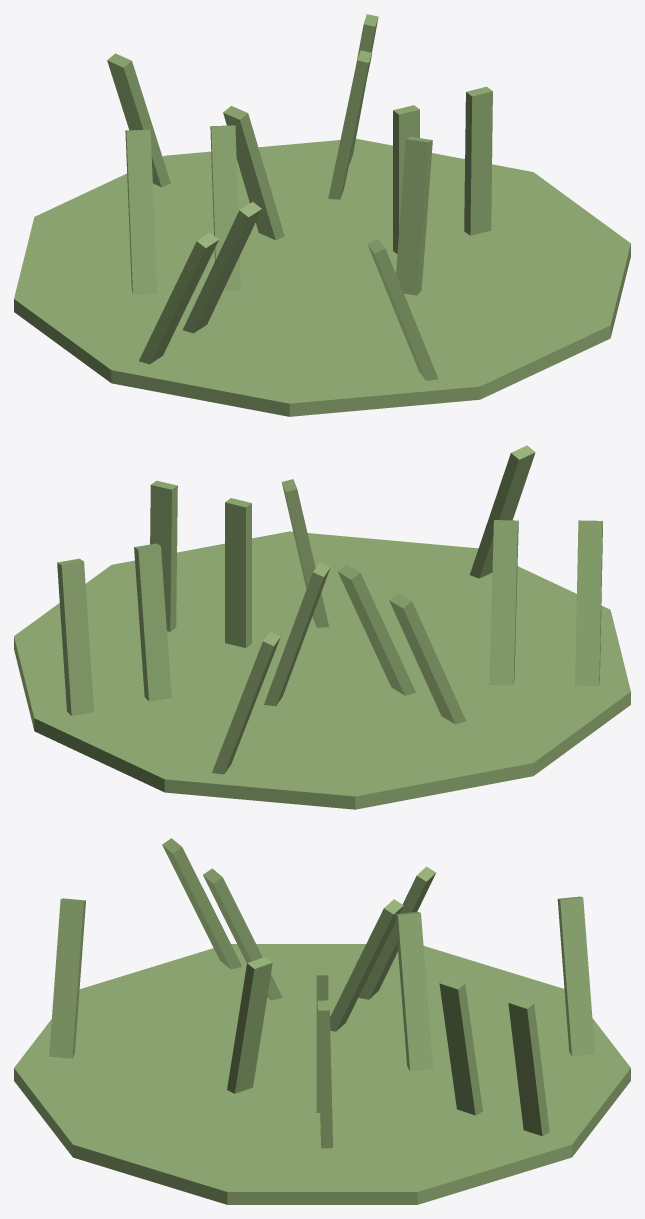
File: KelpSnare.fbx
The picture shows the model from 3 angles, top to bottom: view 1: azimuth 30°, elevation 25°; view 2: azimuth 150°, elevation 25°; view 3: azimuth 270°, elevation 25°; orthographic projection. The views are drawn at different scales.
Parts seen in each view (by area): view 1: Body; view 2: Body; view 3: Body.
Boxes of the visible parts, x1=… form: Body: x1=14, y1=14, x2=630, y2=416; Body: x1=14, y1=445, x2=630, y2=809; Body: x1=14, y1=838, x2=630, y2=1204.
Bounding box in the file's own units: 2.47 × 0.7009 × 2.6.
